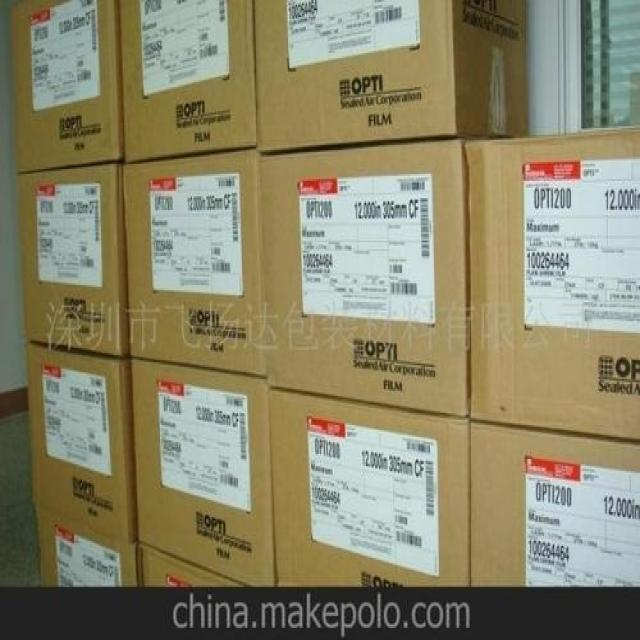box: (259, 139, 471, 419), (462, 126, 639, 440), (253, 0, 528, 152), (268, 388, 470, 587), (130, 359, 276, 587), (123, 149, 266, 376), (470, 421, 639, 587), (14, 162, 131, 360), (25, 341, 137, 546), (119, 0, 256, 164), (11, 1, 125, 172), (34, 503, 138, 587), (137, 544, 250, 588)
